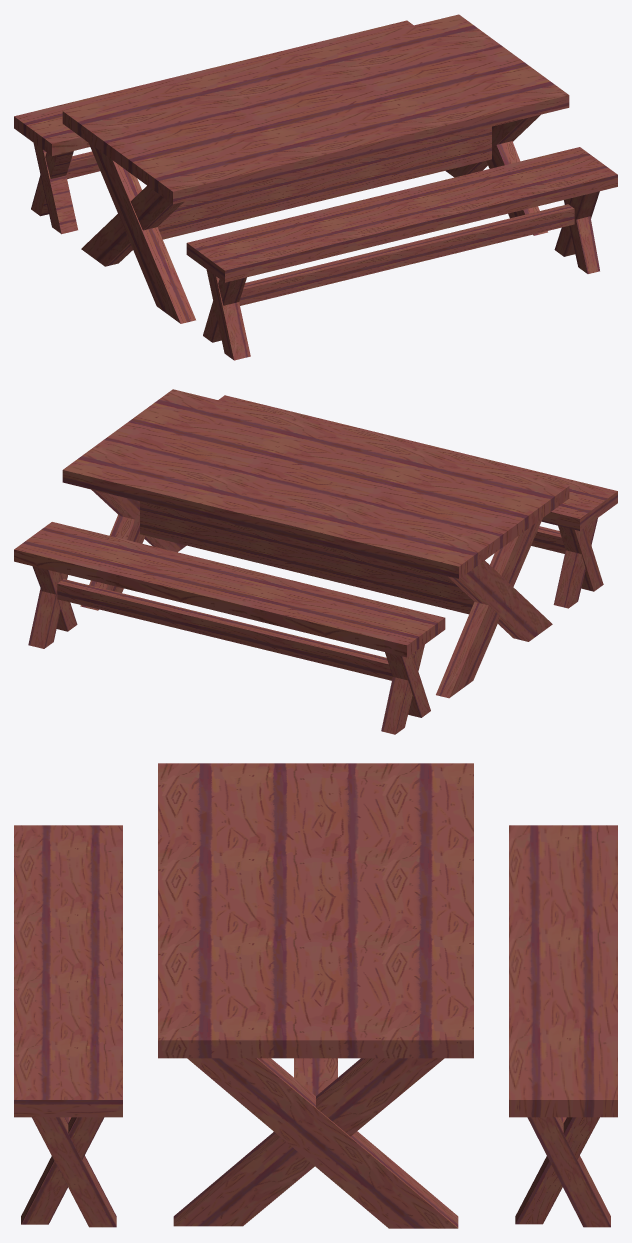
The model's file is Table01.fbx.
3 renders of one model, top to bottom at view 1: azimuth 30°, elevation 25°; view 2: azimuth 150°, elevation 25°; view 3: azimuth 270°, elevation 25°, orthographic. The views are drawn at different scales.
Parts seen in each view (by area): view 1: Table01, Table_bench01, Table_bench02; view 2: Table01, Table_bench02, Table_bench01; view 3: Table01, Table_bench01, Table_bench02.
Boxes of the visible parts, x1=… form: Table01: x1=62, y1=14, x2=569, y2=323; Table_bench01: x1=186, y1=147, x2=617, y2=360; Table_bench02: x1=14, y1=20, x2=413, y2=234; Table01: x1=62, y1=389, x2=569, y2=698; Table_bench02: x1=14, y1=522, x2=445, y2=734; Table_bench01: x1=218, y1=395, x2=617, y2=608; Table01: x1=158, y1=763, x2=473, y2=1228; Table_bench01: x1=14, y1=825, x2=122, y2=1227; Table_bench02: x1=509, y1=825, x2=617, y2=1227.
Size of the model in its own units: 2.83 by 0.9444 by 2.61.
1 material, 1 textured.
